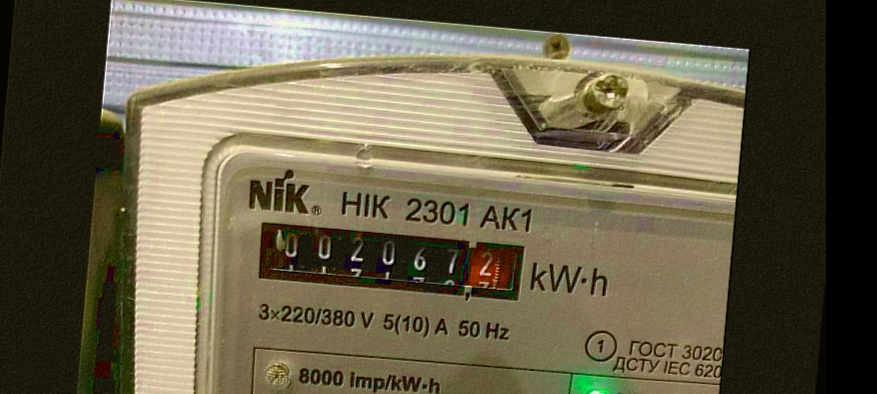0: (281, 230, 301, 261), (315, 231, 334, 262), (378, 237, 398, 266)
2: (476, 248, 497, 279), (348, 234, 367, 264)
6: (410, 243, 431, 273)
7: (443, 245, 462, 277)
screen: (242, 208, 540, 315)
